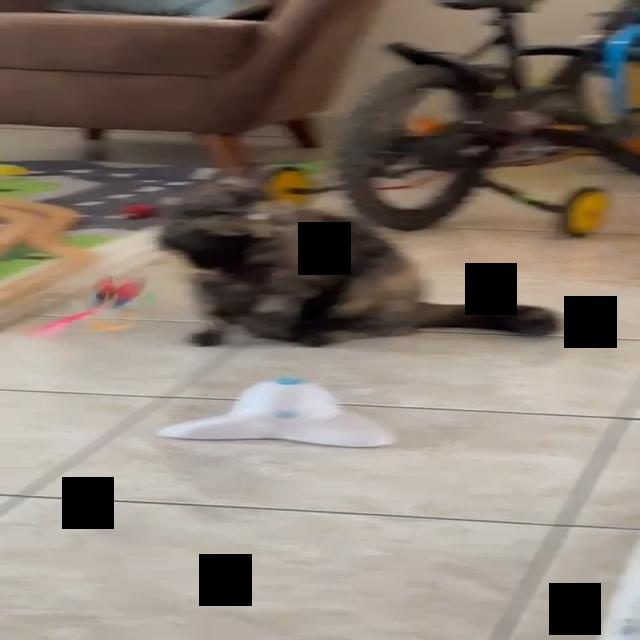authorized: (155, 207, 568, 348)
